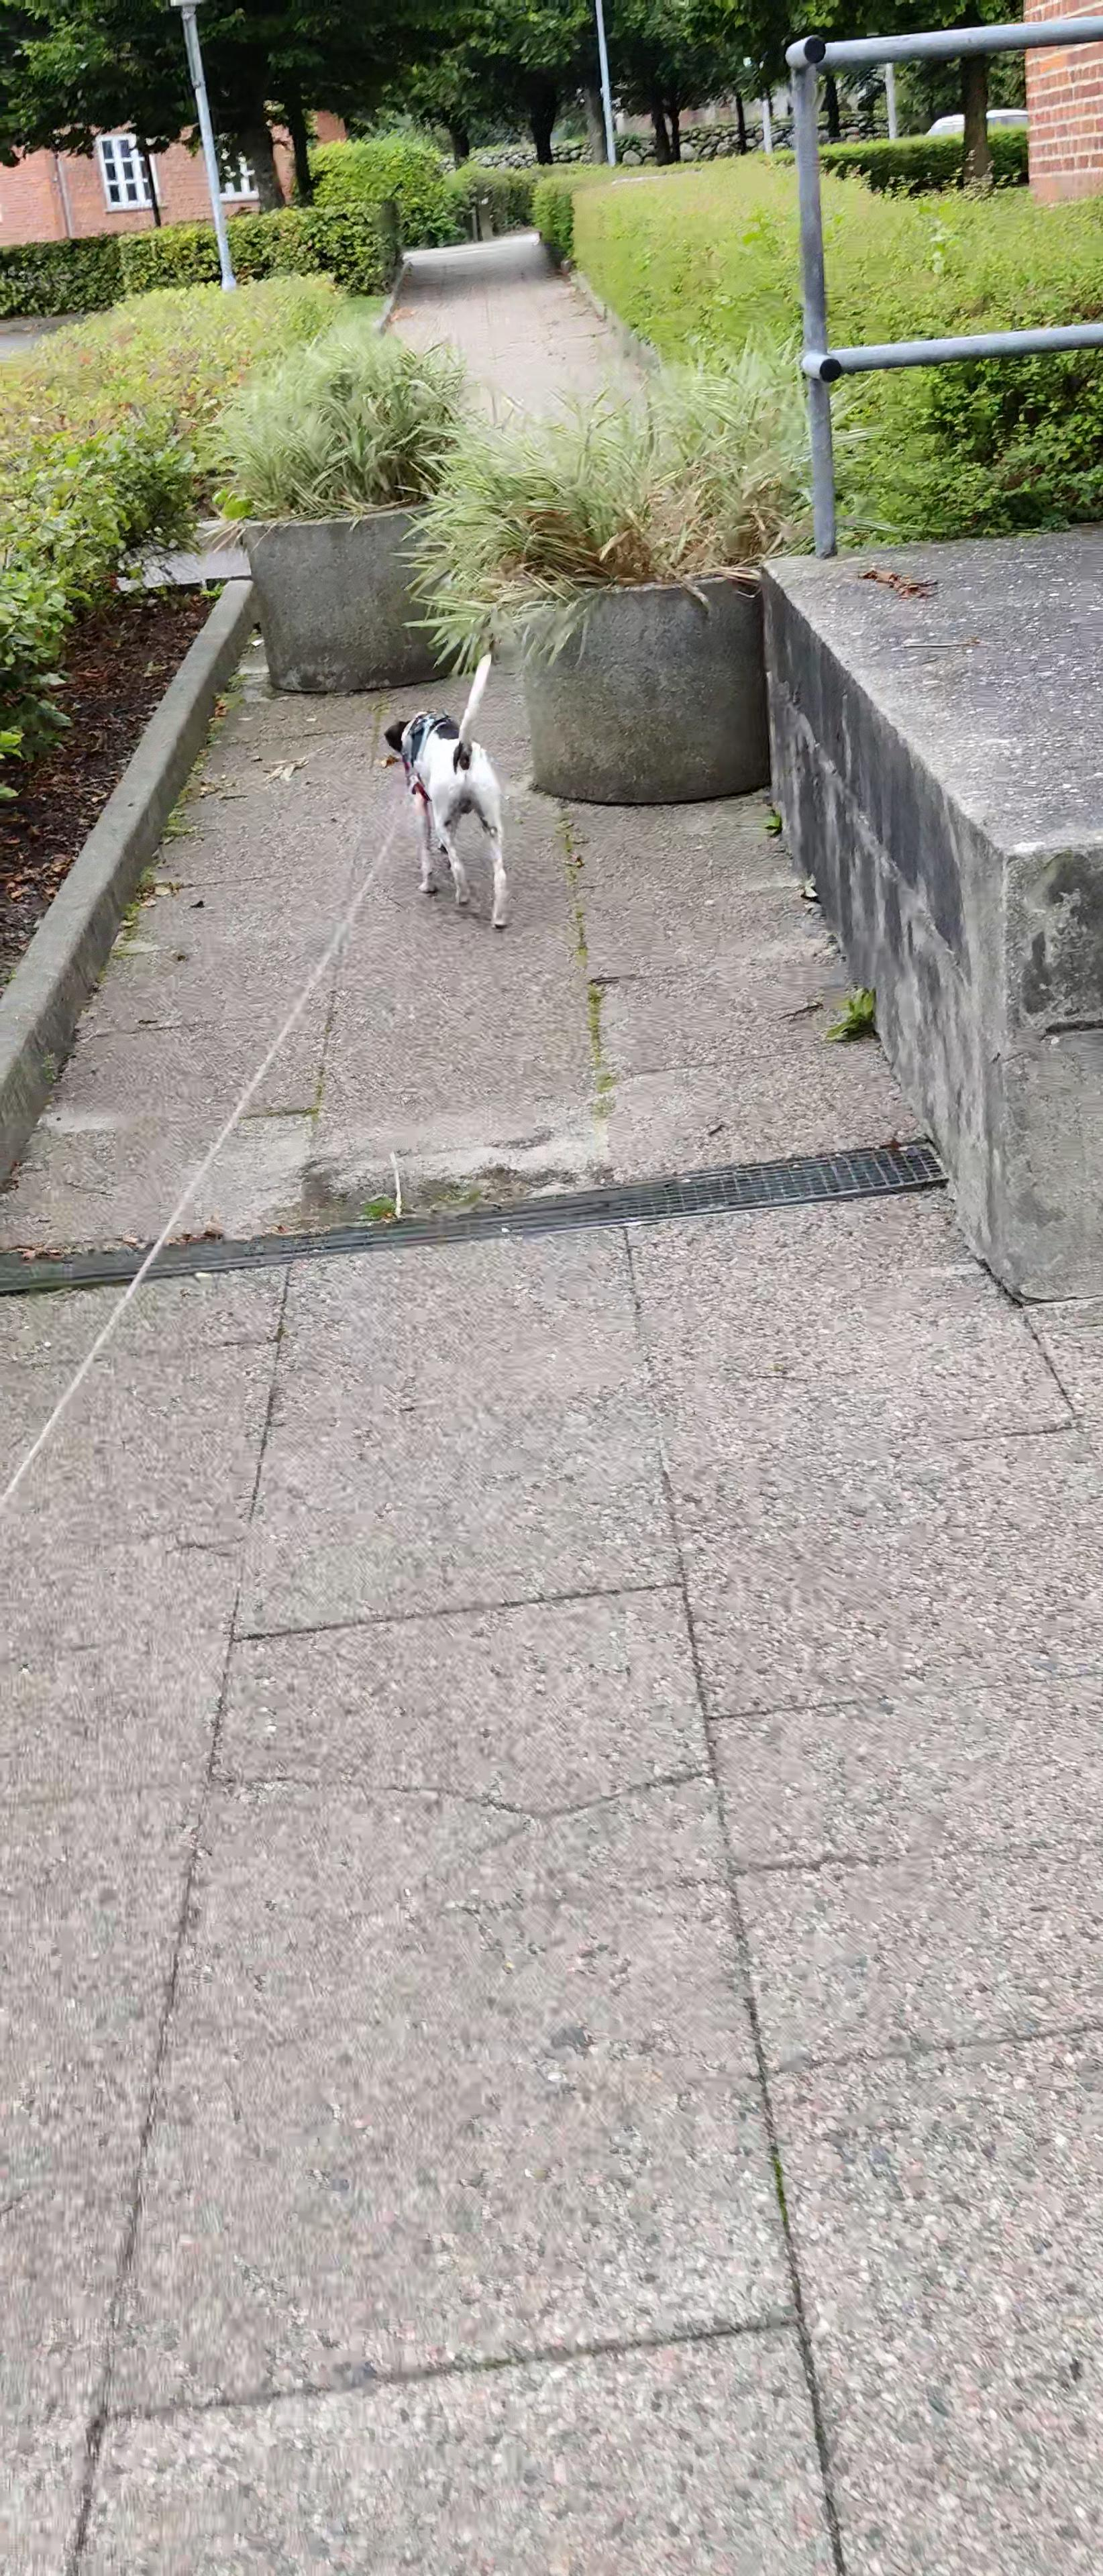Dog: (376, 644, 515, 933)
